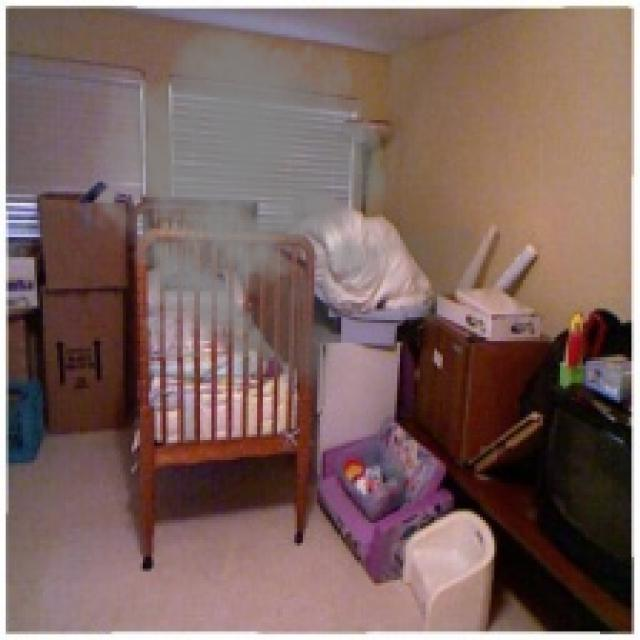Smoke: (82, 0, 494, 406)
